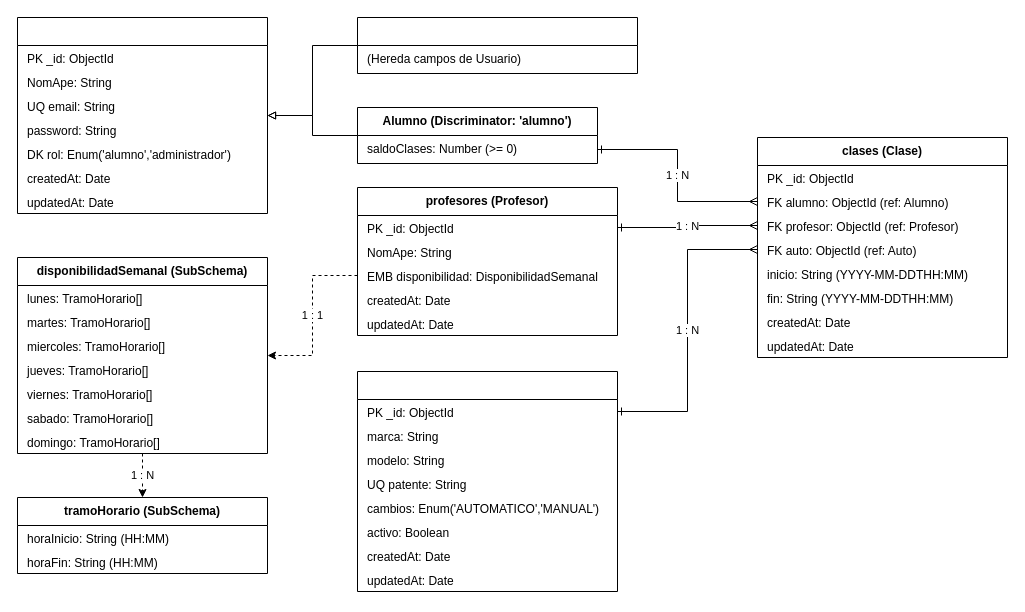
The diagram is 1025 pixels wide and 612 high, and some of its shapes have lost their labels. The box of each missing label's shape, as (x1, y1, x2, y2) in pixels:
Administrador (Discriminator: 'administrador'): (356, 16, 638, 74)
autos (Auto): (356, 370, 618, 592)
usuarios (Usuario): (16, 16, 268, 214)
